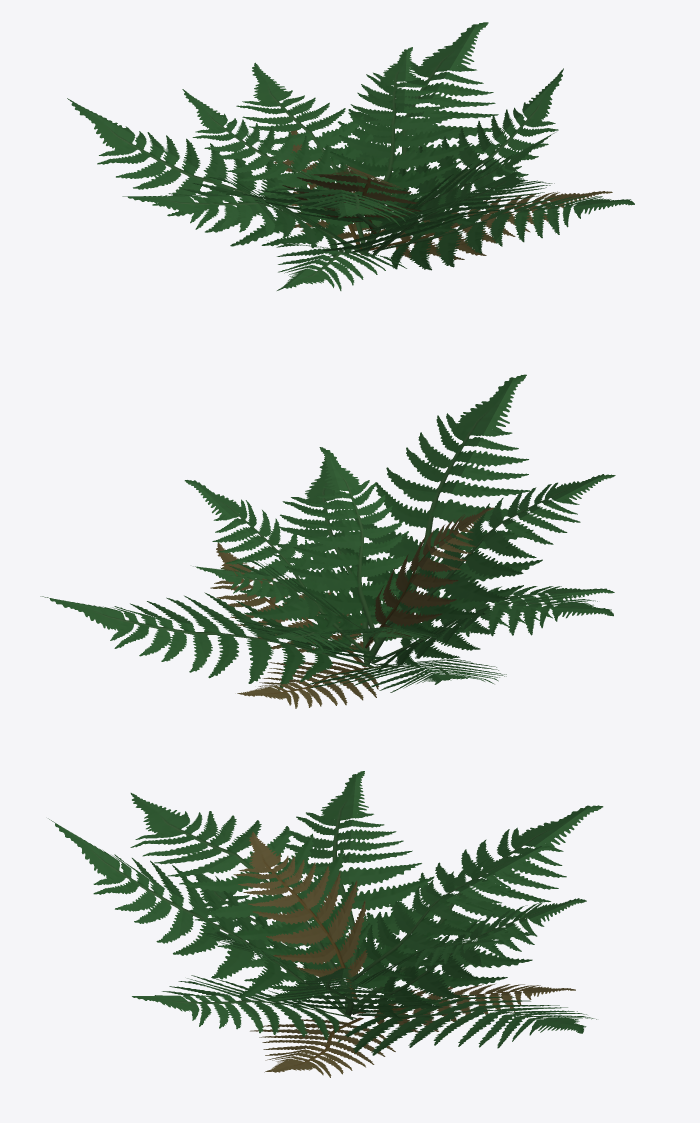
Rendered from Plant001.fbx.
3 views of the same model, one above another, from view 1: azimuth 30°, elevation 25°; view 2: azimuth 150°, elevation 25°; view 3: azimuth 270°, elevation 25° (orthographic). The views are drawn at different scales.
Parts seen in each view (by area): view 1: Fern; view 2: Fern; view 3: Fern.
Part boxes in pixels (x1,y1,x2,y2): Fern: (67,22,634,290); Fern: (40,374,615,708); Fern: (48,771,603,1077).
Size of the model in its own units: 141 by 47.3 by 142.
